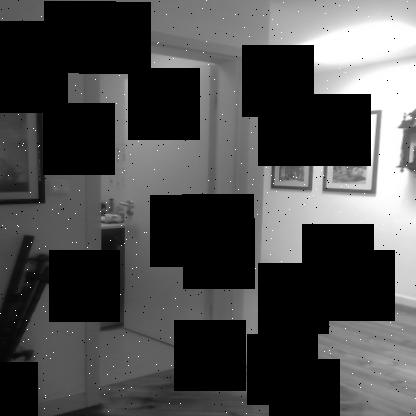Porte: (82, 15, 250, 409)
